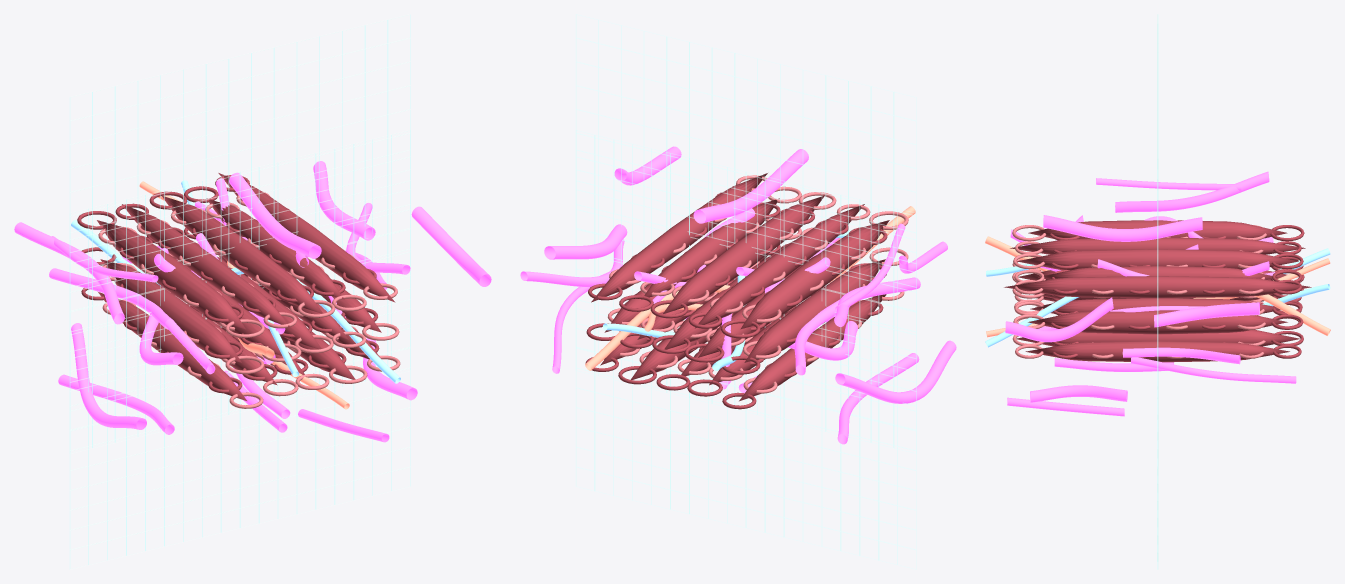
The model's file is heart-tissue-progressing-1.glb.
The picture shows the model from 3 angles, left to right: view 1: azimuth 30°, elevation 25°; view 2: azimuth 150°, elevation 25°; view 3: azimuth 270°, elevation 25°; orthographic projection. The views are drawn at different scales.
Parts seen in each view (by area): view 1: ECM_Bot, ECM_Top, Fibre_12, Fibre_10, Fibre_11, Fibre_14, Fibre_5, Fibre_13, Fibre_0, Amy_11, Amy_8, CapVen1 (+19 smaller); view 2: ECM_Bot, ECM_Top, Fibre_12, Fibre_10, Fibre_11, Fibre_14, Fibre_5, Fibre_13, Fibre_0, Amy_11, Amy_8, Amy_3 (+15 smaller); view 3: Fibre_14, Fibre_12, Fibre_9, Fibre_4, Fibre_11, Fibre_3, Amy_11, Fibre_10, Fibre_13, Fibre_8, Amy_22, Amy_24 (+13 smaller).
Boxes of the visible parts, x1,y1,x2,y2 form: ECM_Bot: (70, 130, 410, 569); ECM_Top: (70, 14, 410, 453); Fibre_12: (161, 195, 322, 313); Fibre_10: (97, 220, 245, 329); Fibre_11: (122, 204, 291, 328); Fibre_14: (218, 173, 395, 302); Fibre_5: (100, 259, 241, 362); Fibre_13: (206, 198, 344, 299); Fibre_0: (98, 292, 246, 400); Amy_11: (229, 172, 321, 258); Amy_8: (71, 323, 146, 429); CapVen1: (71, 220, 400, 383); ECM_Bot: (576, 130, 916, 569); ECM_Top: (576, 14, 916, 453); Fibre_12: (663, 195, 824, 313); Fibre_10: (740, 220, 889, 329); Fibre_11: (695, 204, 864, 328); Fibre_14: (591, 173, 767, 302); Fibre_5: (744, 259, 885, 362); Fibre_13: (641, 198, 779, 299); Fibre_0: (739, 294, 886, 401); Amy_11: (693, 149, 808, 223); Amy_8: (835, 340, 956, 403); Amy_3: (544, 224, 627, 259); Fibre_14: (1004, 276, 1311, 298); Fibre_12: (1017, 249, 1298, 270); Fibre_9: (1028, 310, 1287, 334); Fibre_4: (1025, 341, 1289, 362); Fibre_11: (1010, 237, 1305, 254); Fibre_3: (1016, 329, 1300, 346); Amy_11: (1043, 215, 1202, 241); Fibre_10: (1028, 220, 1287, 238); Fibre_13: (1038, 266, 1277, 279); Fibre_8: (1030, 298, 1280, 313); Amy_22: (1115, 171, 1269, 212); Amy_24: (1005, 297, 1113, 342).
Bounding box in the file's own units: 4.1 × 5.3 × 4.04.
